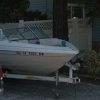Boat: (1, 23, 85, 88)
